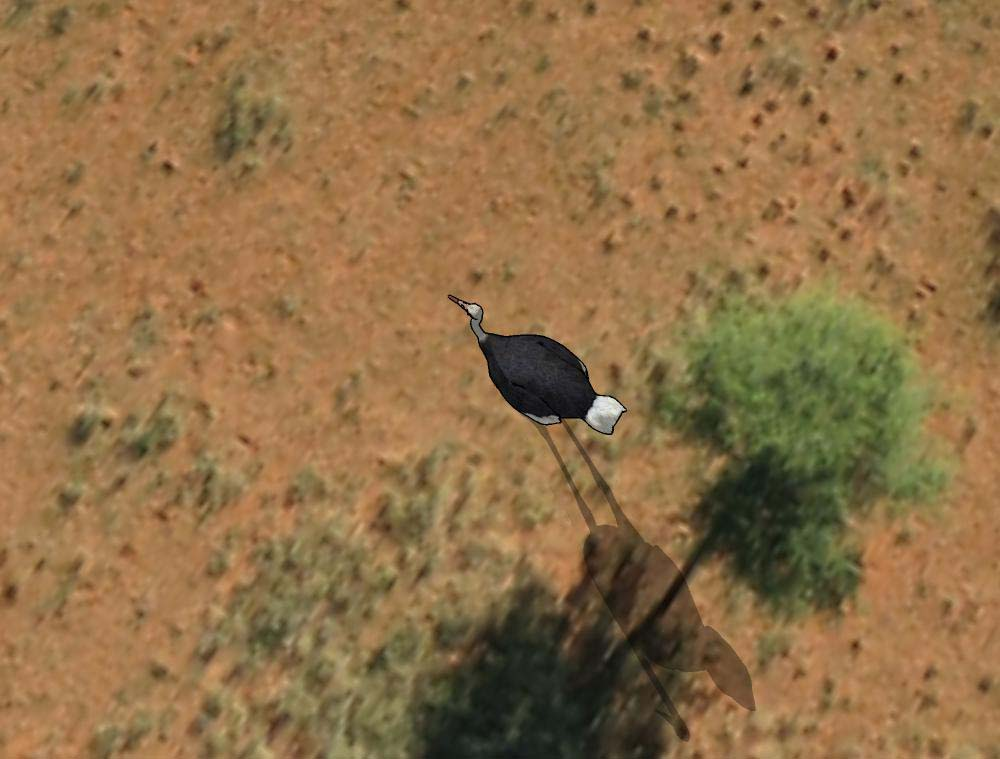ostrich: (442, 290, 629, 438)
